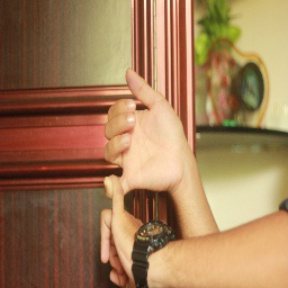S: (93, 66, 196, 288)
